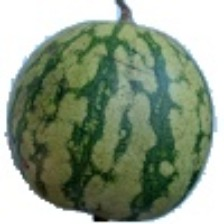watermelon: (41, 30, 220, 214)
